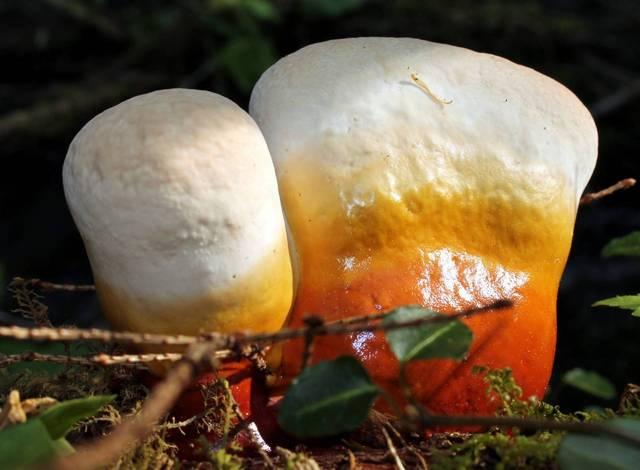poisonous_mushroom: (247, 34, 600, 437), (60, 85, 298, 374)
